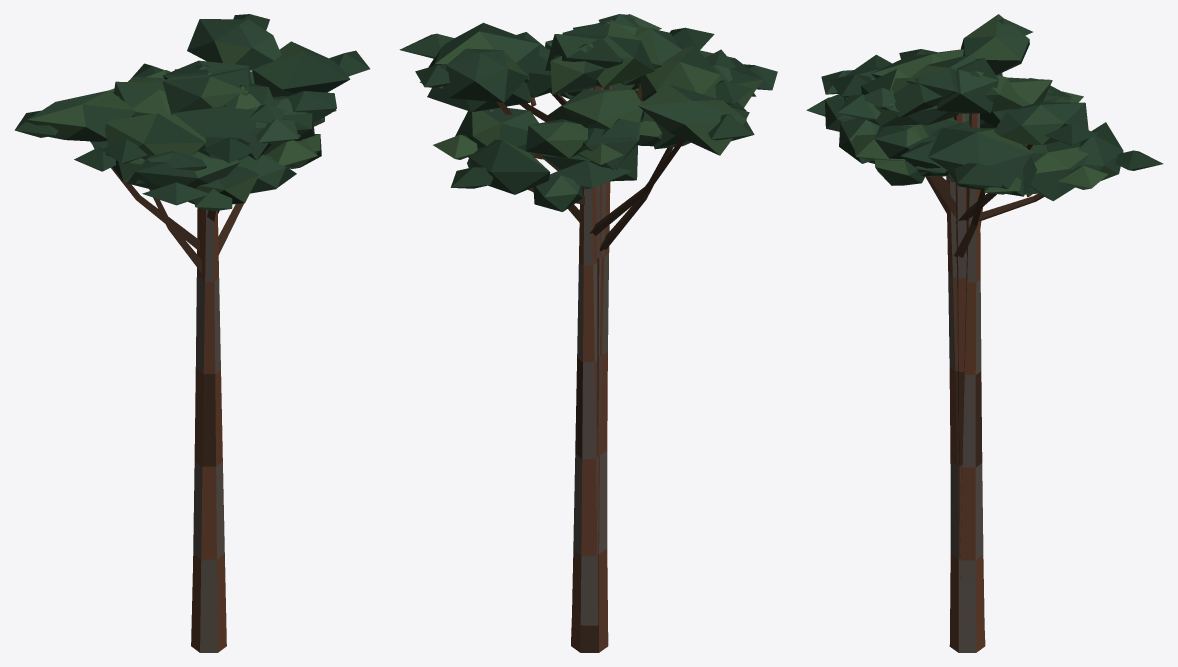
The model's file is slashpine.glb.
The picture shows the model from 3 angles, left to right: view 1: azimuth 30°, elevation 25°; view 2: azimuth 150°, elevation 25°; view 3: azimuth 270°, elevation 25°; orthographic projection. The views are drawn at different scales.
Visible parts, largest first — view 1: slashpine_v2, slashpine_v0, slashpine_v1; view 2: slashpine_v0, slashpine_v2, slashpine_v1; view 3: slashpine_v0, slashpine_v2, slashpine_v1.
Part boxes in pixels (left/top/right/bottom): slashpine_v2: left=100, top=14, right=317, bottom=652; slashpine_v0: left=14, top=41, right=369, bottom=558; slashpine_v1: left=74, top=60, right=336, bottom=439; slashpine_v0: left=399, top=14, right=754, bottom=652; slashpine_v2: left=415, top=19, right=777, bottom=652; slashpine_v1: left=450, top=14, right=749, bottom=581; slashpine_v0: left=806, top=14, right=1107, bottom=652; slashpine_v2: left=821, top=49, right=1098, bottom=652; slashpine_v1: left=829, top=58, right=1163, bottom=567.
Size of the model in its own units: 9.87 by 16.01 by 9.03.
